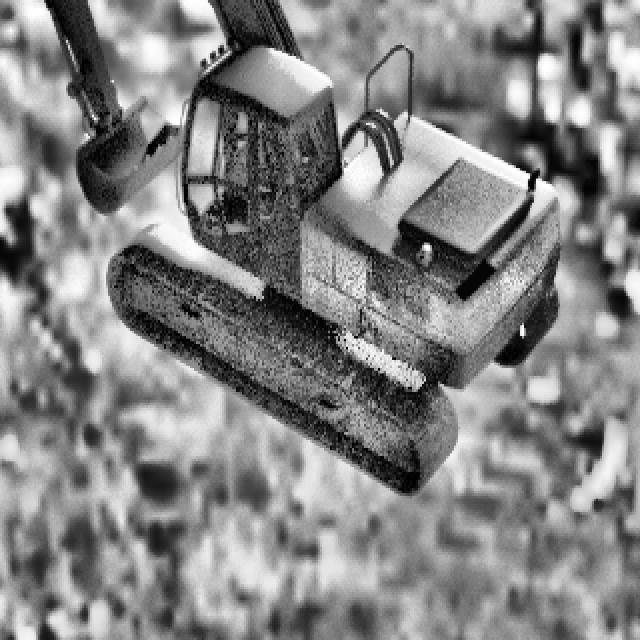excavator: (0, 0, 560, 493)
